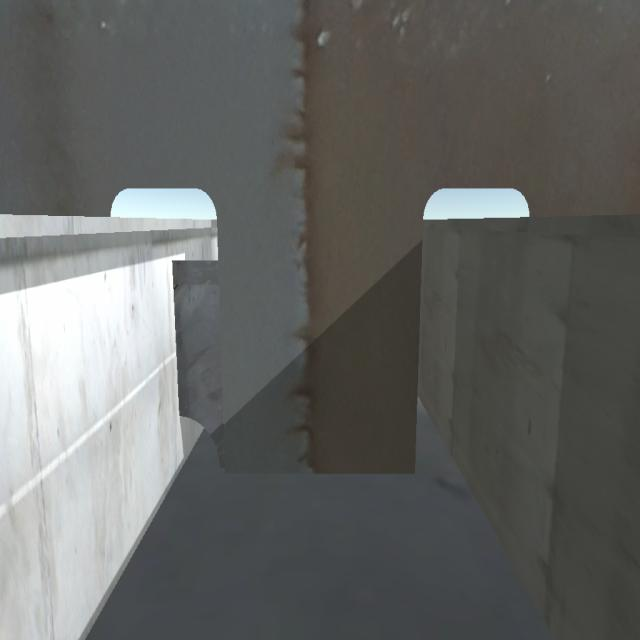fillet_yong_jeop_jang: (218, 466, 420, 482)
longi_yong_jeop_jang: (173, 255, 183, 413)
plate_behind: (173, 260, 219, 472)
